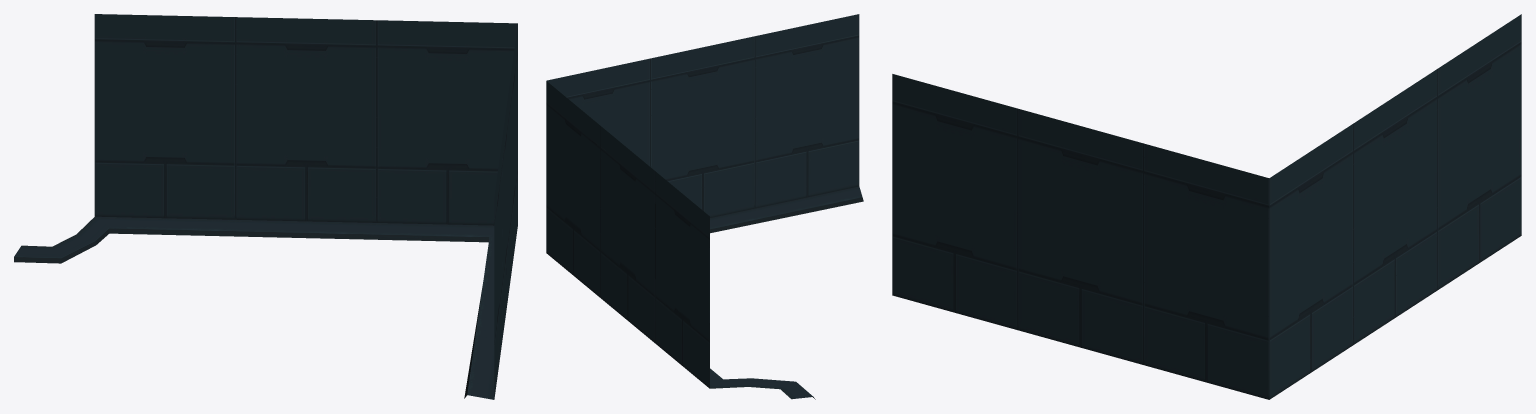
The model's file is ts_zjmwwq001.FBX.
3 renders of one model, left to right at view 1: azimuth 30°, elevation 25°; view 2: azimuth 150°, elevation 25°; view 3: azimuth 270°, elevation 25°, orthographic. The views are drawn at different scales.
Visible parts, largest first — view 1: ts_zjmwwq001; view 2: ts_zjmwwq001; view 3: ts_zjmwwq001.
Part boxes in pixels (x1,y1,x2,y2): ts_zjmwwq001: (14, 14, 517, 399); ts_zjmwwq001: (546, 14, 863, 399); ts_zjmwwq001: (892, 14, 1521, 399).
Bounding box in the file's own units: 8.89 × 4.28 × 10.8.
